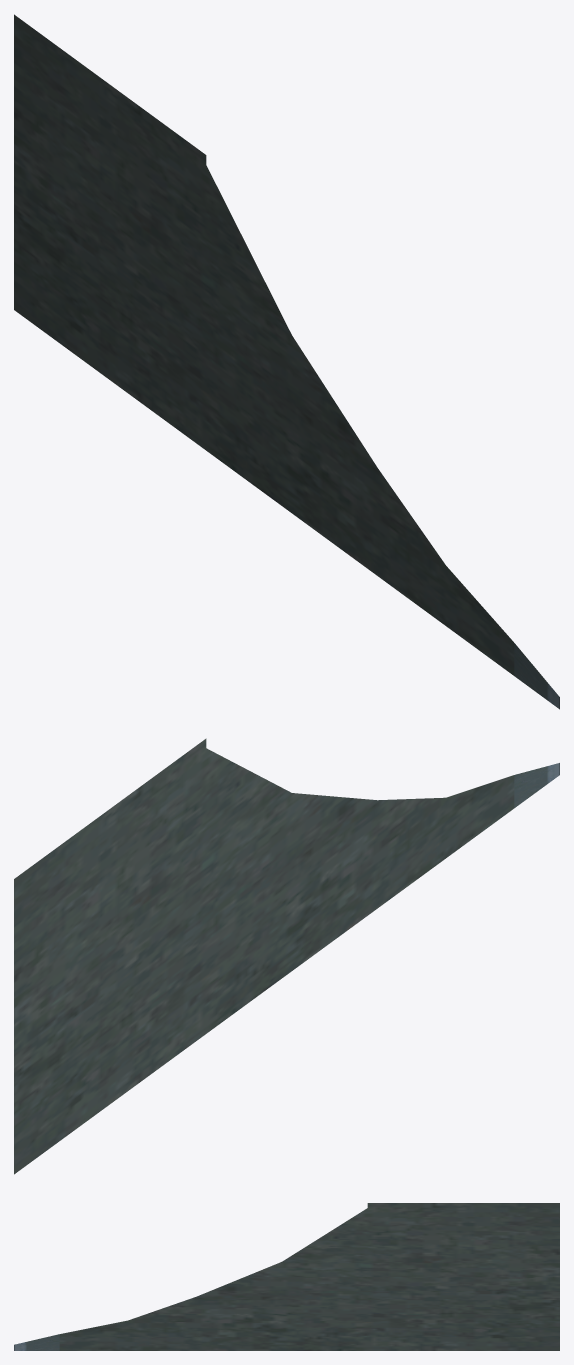
3 renders of one model, top to bottom at view 1: azimuth 30°, elevation 25°; view 2: azimuth 150°, elevation 25°; view 3: azimuth 270°, elevation 25°, orthographic. The views are drawn at different scales.
Parts seen in each view (by area): view 1: Joint_0_Object_0, Joint_0_Object_1; view 2: Joint_0_Object_0, Joint_0_Object_1; view 3: Joint_0_Object_0, Joint_0_Object_1.
Boxes of the visible parts, left/top/right/bottom form: Joint_0_Object_0: left=14, top=14, right=514, bottom=675; Joint_0_Object_1: left=514, top=643, right=559, bottom=709; Joint_0_Object_0: left=14, top=738, right=514, bottom=1174; Joint_0_Object_1: left=514, top=763, right=559, bottom=807; Joint_0_Object_0: left=59, top=1203, right=559, bottom=1350; Joint_0_Object_1: left=14, top=1334, right=59, bottom=1350.
Size of the model in its own units: 0.22 by 1111 by 3719.
Materials: 2 (2 with a texture image).
